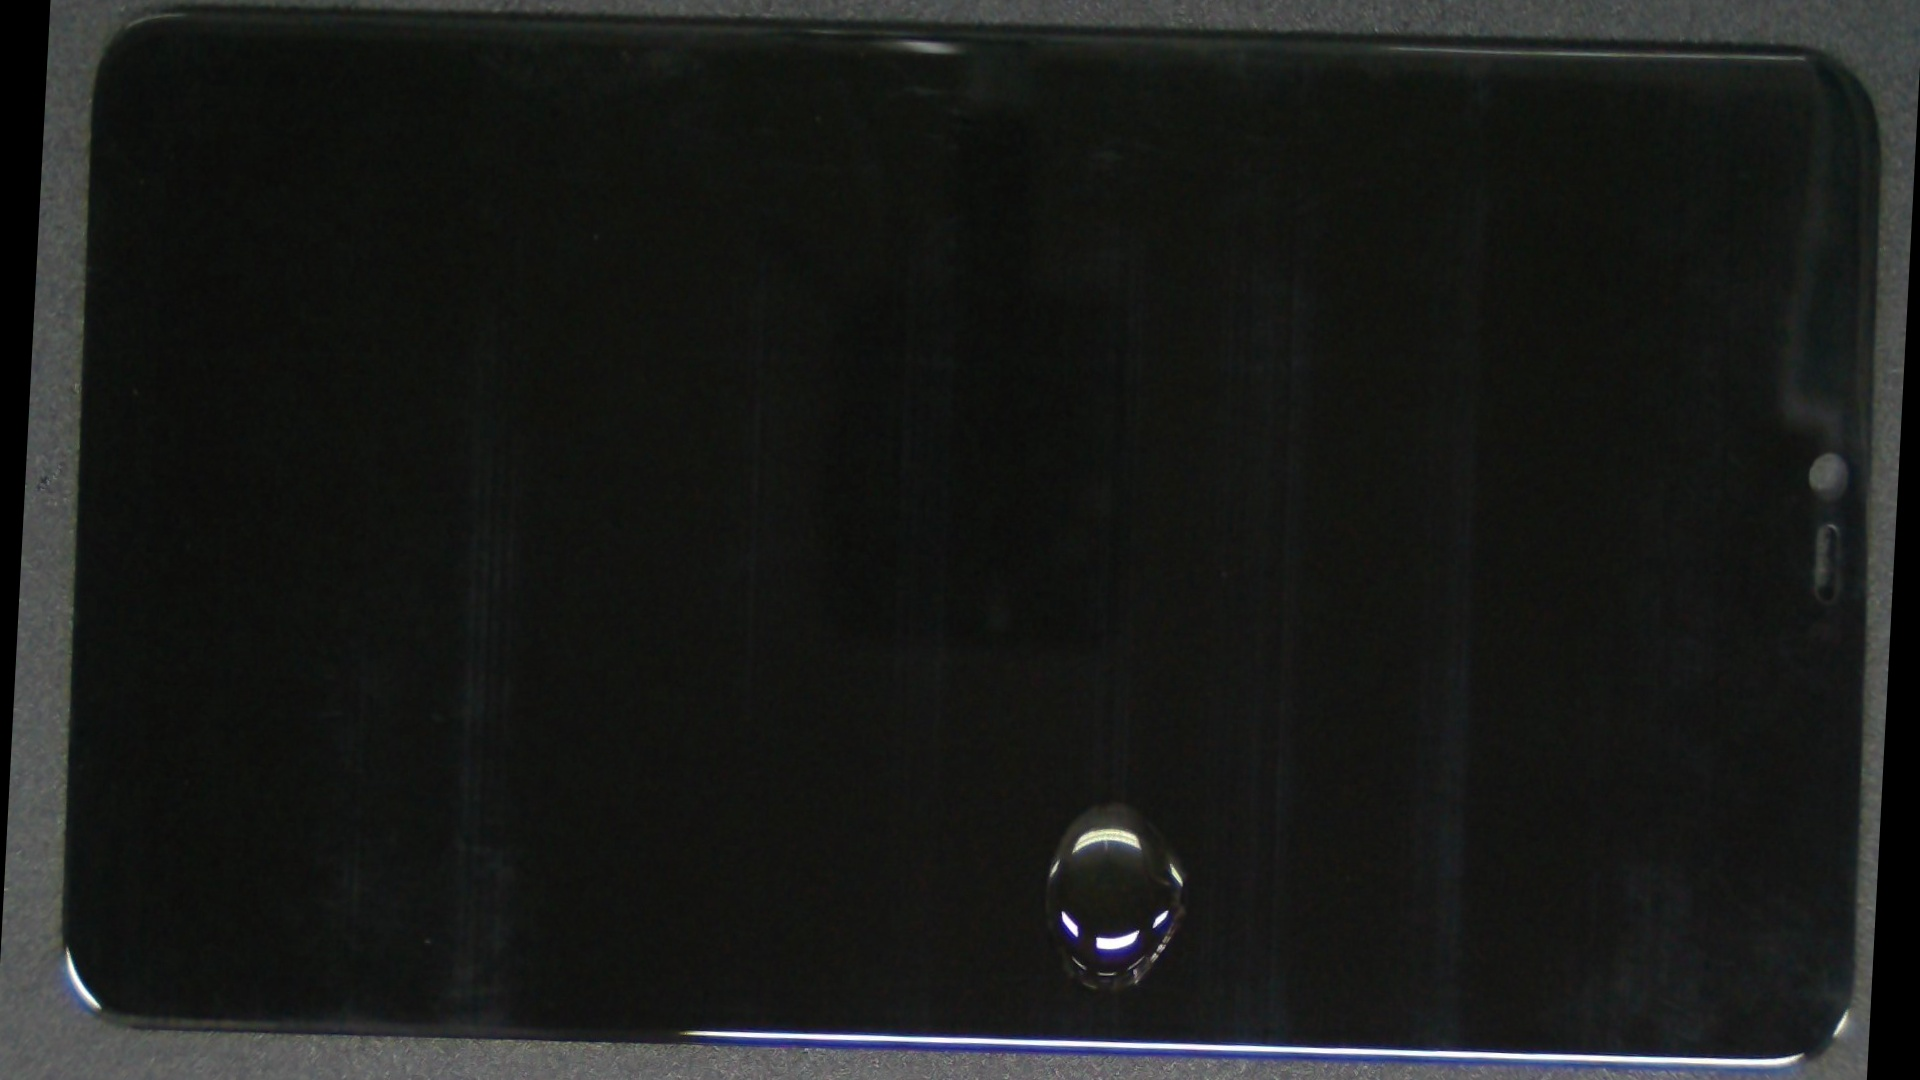oil: (546, 307, 1691, 1080)
